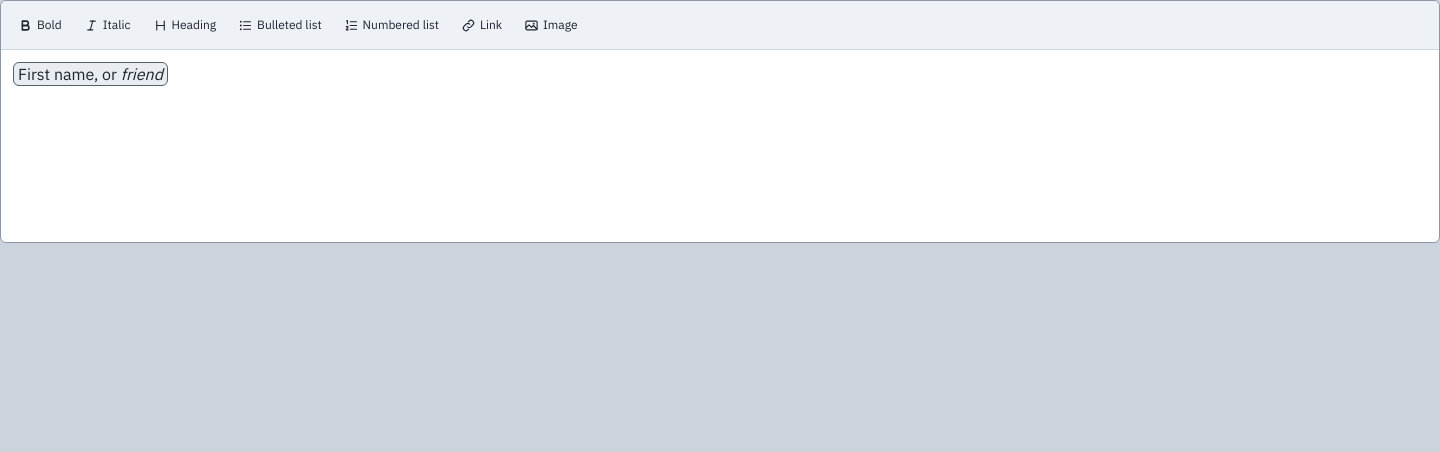
Scenario: RichTextEditor field panel › starts the box from the fallback already set
Click the field with class "rich-text__field" at (90, 74), box [13, 62, 168, 86]
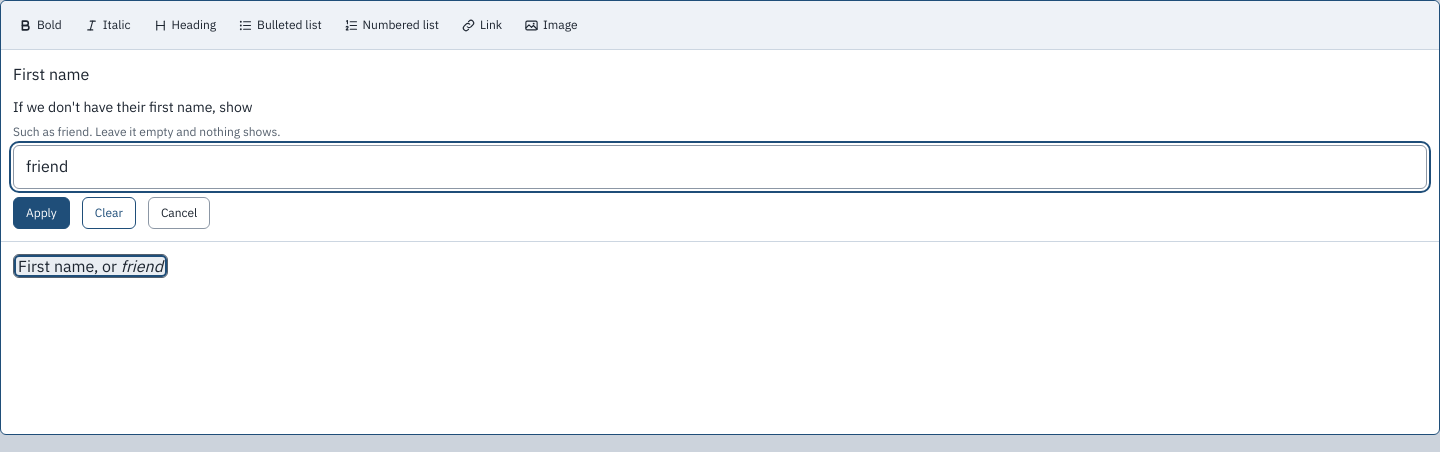
Expected: the field labelled "If we don't have their first name, show" holds "friend", [13, 145, 1427, 189]
